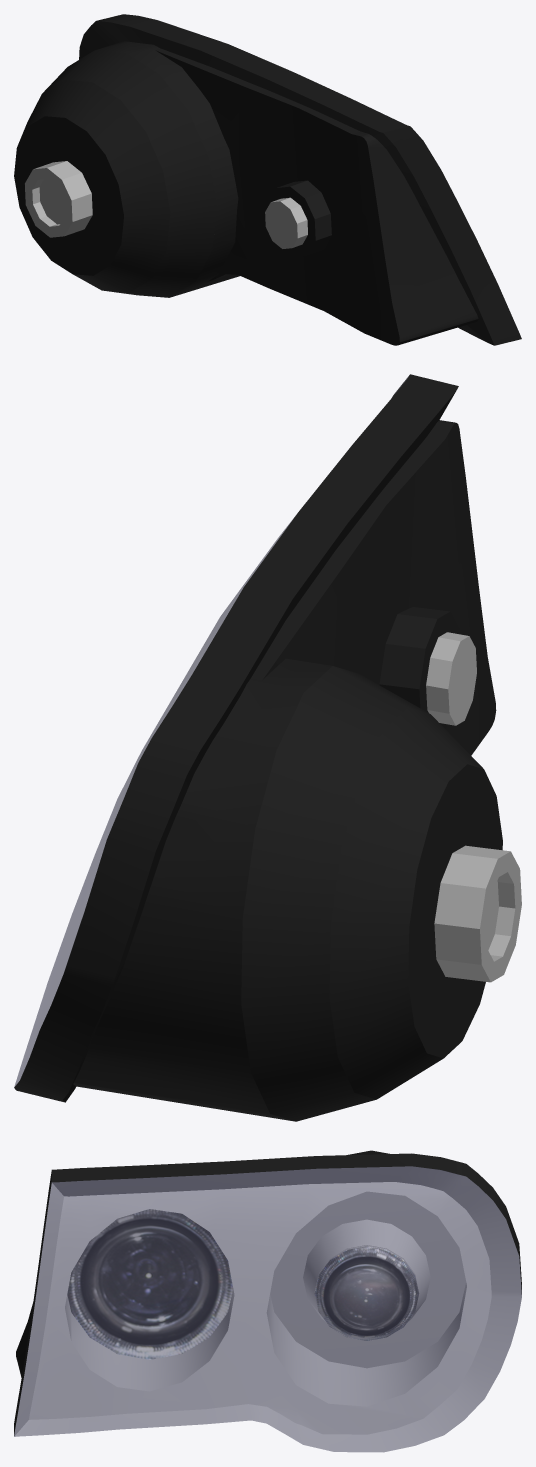
3 views of the same model, one above another, from view 1: azimuth 30°, elevation 25°; view 2: azimuth 150°, elevation 25°; view 3: azimuth 270°, elevation 25° (orthographic). The views are drawn at different scales.
Parts seen in each view (by area): view 1: M261_061B_L_M261_061B_L_4_N, M261_061B_L_M261_061B_L_3_N; view 2: M261_061B_L_M261_061B_L_4_N, M261_061B_L_M261_061B_L_3_N, M261_061B_L_M261_061B_L_5_DTaSI; view 3: M261_061B_L_M261_061B_L_5_DTaSI, M261_061B_L_M261_061B_L_3_N, M261_061B_L_M261_061B_L_2_N, M261_061B_L_1_N_M261_061B_L, M261_061B_L_M261_061B_L_4_N.
Part boxes in pixels (x1,y1,x2,y2): M261_061B_L_M261_061B_L_4_N: (14, 14, 521, 345); M261_061B_L_M261_061B_L_3_N: (25, 161, 307, 248); M261_061B_L_M261_061B_L_4_N: (14, 374, 502, 1121); M261_061B_L_M261_061B_L_3_N: (392, 375, 521, 982); M261_061B_L_M261_061B_L_5_DTaSI: (14, 376, 408, 1086); M261_061B_L_M261_061B_L_5_DTaSI: (14, 1166, 521, 1452); M261_061B_L_M261_061B_L_3_N: (14, 1166, 521, 1452); M261_061B_L_M261_061B_L_2_N: (67, 1209, 233, 1359); M261_061B_L_1_N_M261_061B_L: (314, 1246, 418, 1340); M261_061B_L_M261_061B_L_4_N: (14, 1150, 521, 1435).
Size of the model in its own units: 25.03 by 20.77 by 37.74.
